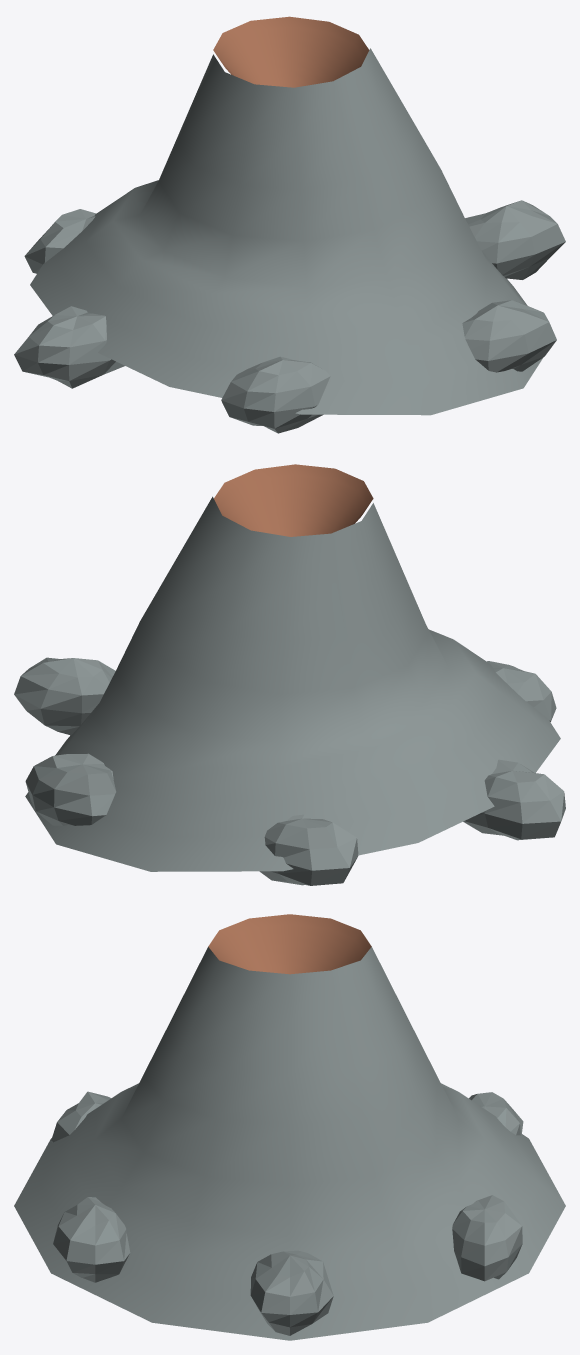
File: primeval-frontier-dormant-volcanic-cone-69c7d939__1782.glb
The picture shows the model from 3 angles, top to bottom: view 1: azimuth 30°, elevation 25°; view 2: azimuth 150°, elevation 25°; view 3: azimuth 270°, elevation 25°; orthographic projection. The views are drawn at different scales.
Visible parts, largest first — view 1: dormant-volcanic-cone; view 2: dormant-volcanic-cone; view 3: dormant-volcanic-cone.
Part boxes in pixels (box(x1,y1,x2,y2)): dormant-volcanic-cone: box(14, 16, 565, 433); dormant-volcanic-cone: box(14, 464, 565, 885); dormant-volcanic-cone: box(14, 914, 565, 1340).
Size of the model in its own units: 5.97 by 3.15 by 5.4.
